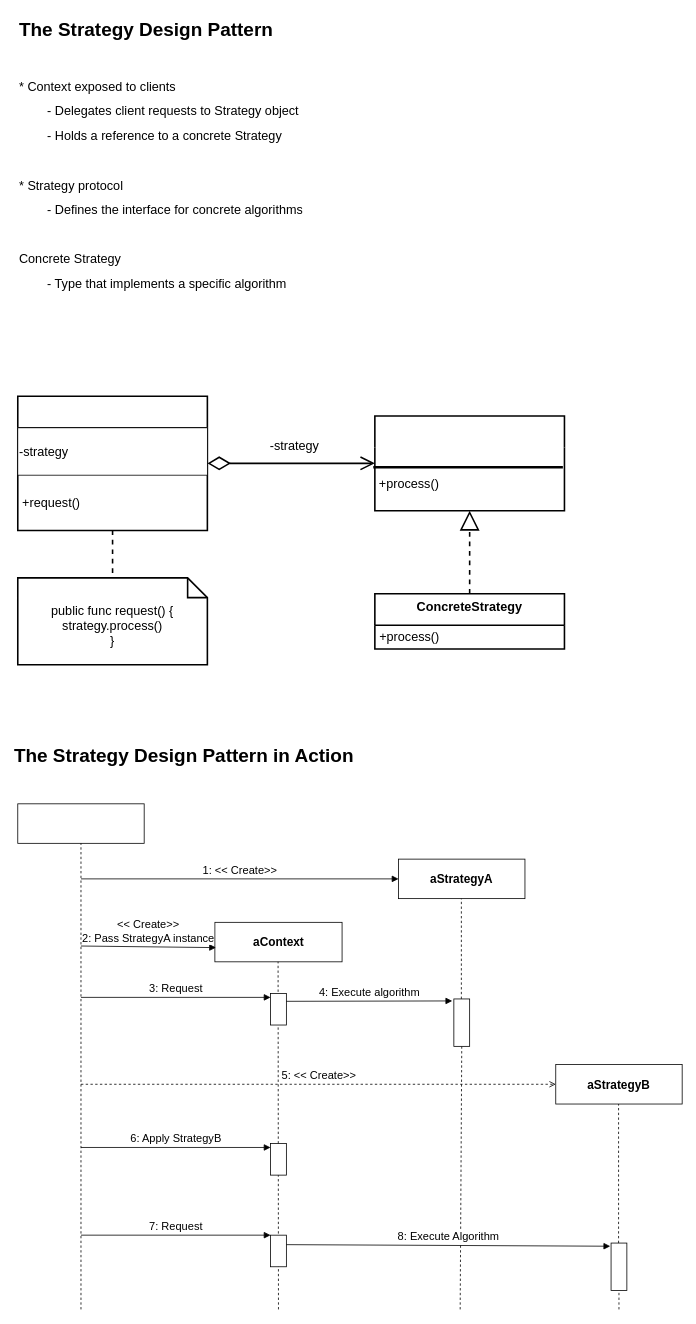
This 696x1324 diagram has some shape labels left out. Here are the shapes that lost their labels. From the top down, the box of each, then its label:
(17, 395, 208, 531): Context
(374, 415, 565, 511): <<interface>> Strategy
(17, 803, 144, 843): aClient
